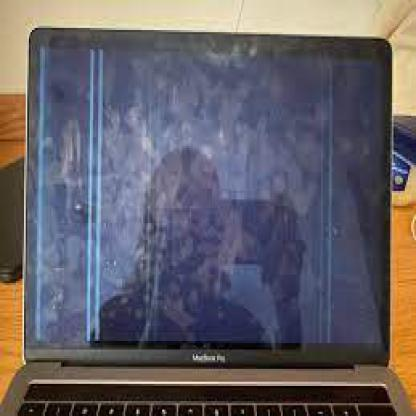lines: (310, 54, 349, 341), (84, 43, 112, 347), (35, 47, 55, 341)
